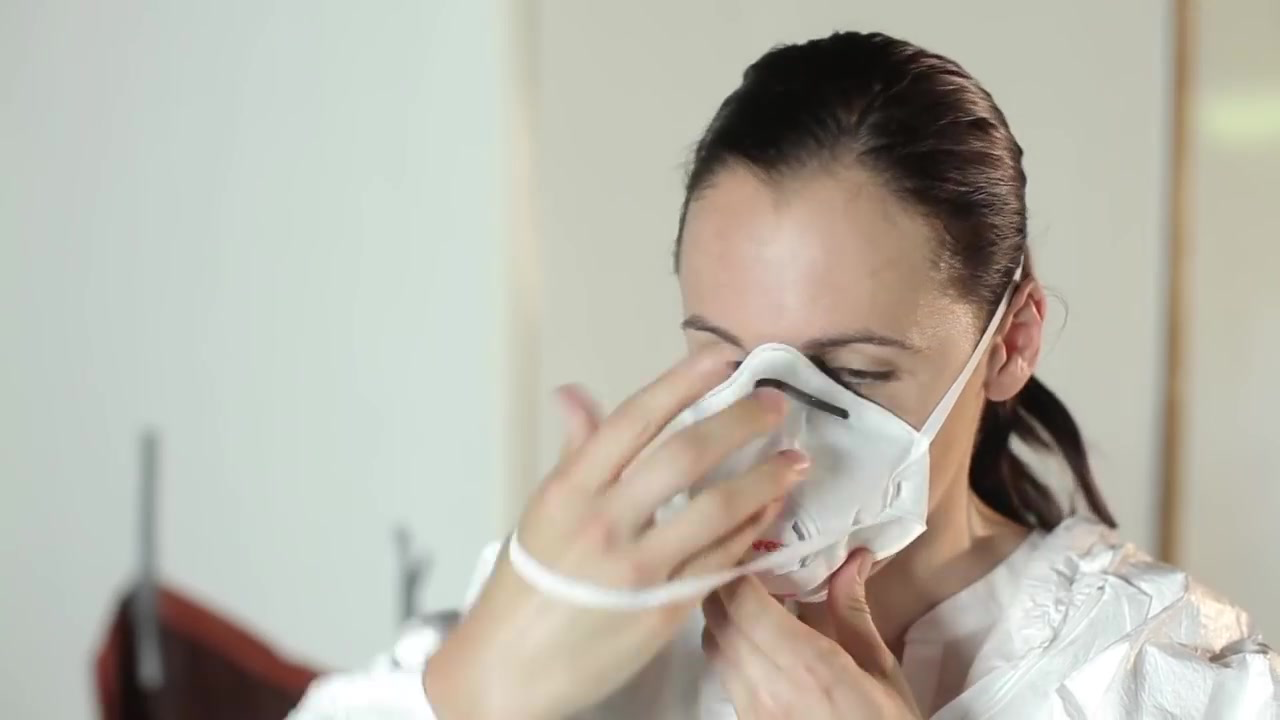with_mask: (642, 322, 975, 596)
